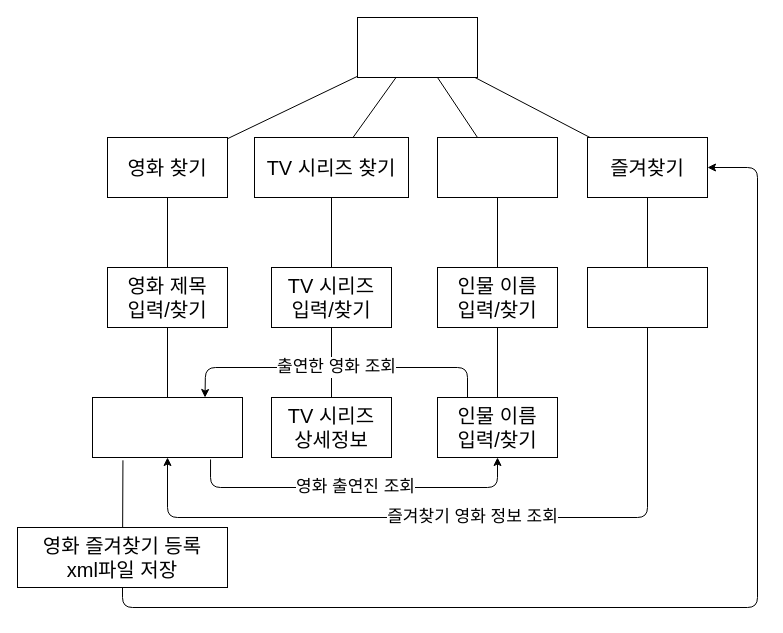
Some shapes in this 783 by 633 pixel diagram are drawn without their labels. The shapes that lost their labels are listed below. From the top down, each one's centre as x and y in pixels, then its label:
At (x=417, y=47): "메인 화면".
At (x=497, y=167): "인물 찾기".
At (x=647, y=297): "즐겨찾기 목록 조회".
At (x=167, y=427): "영화 상세 정보".
